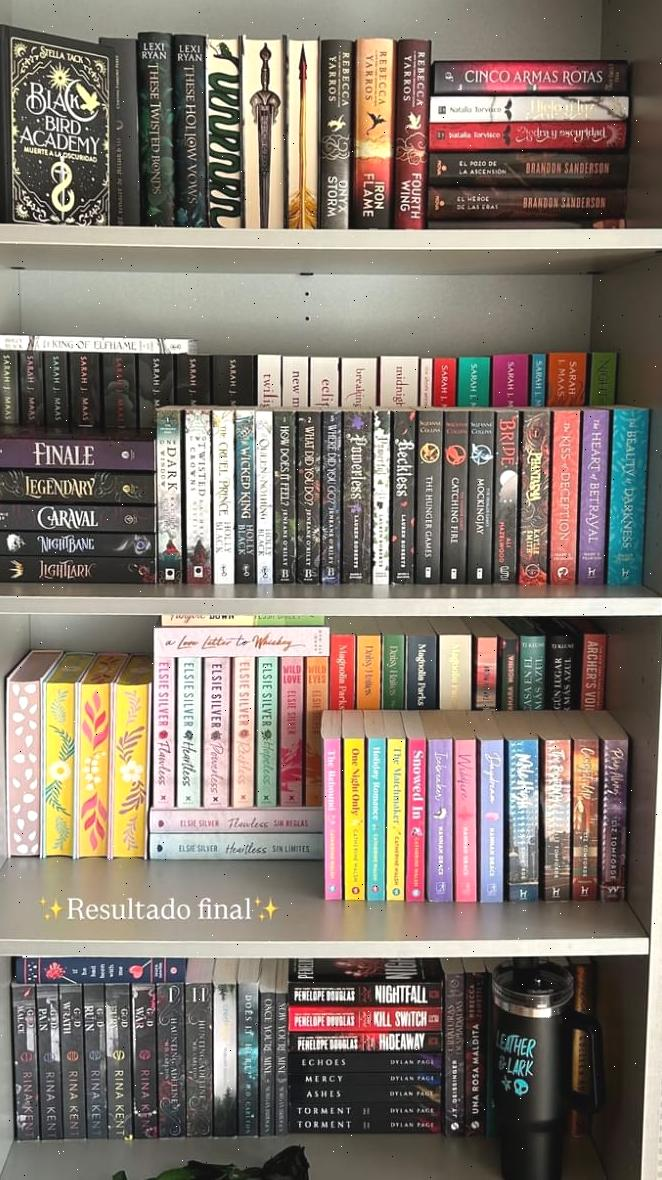book: (242, 37, 284, 225), (355, 39, 396, 227), (205, 36, 243, 226), (136, 33, 174, 223), (394, 39, 432, 226), (172, 34, 209, 226), (318, 40, 354, 227), (286, 39, 321, 226), (427, 150, 625, 183), (596, 717, 629, 904), (577, 409, 610, 588), (476, 718, 506, 906), (549, 410, 580, 587), (519, 411, 550, 586), (427, 122, 629, 148), (541, 730, 571, 905), (0, 437, 152, 471), (571, 727, 600, 903), (130, 967, 159, 1142), (0, 501, 157, 533), (426, 715, 452, 904), (466, 410, 494, 584), (185, 963, 213, 1137), (452, 718, 478, 905), (0, 470, 151, 502), (494, 412, 521, 585), (416, 411, 443, 584), (442, 413, 469, 584), (183, 408, 209, 582), (150, 808, 324, 834), (342, 712, 366, 900), (343, 411, 369, 584), (288, 1075, 442, 1104), (0, 530, 154, 559), (237, 960, 262, 1137), (384, 713, 407, 901), (288, 1005, 445, 1032), (59, 983, 85, 1141), (392, 411, 416, 582), (154, 630, 332, 653), (365, 715, 387, 901), (289, 1049, 444, 1075), (442, 958, 465, 1133), (213, 958, 236, 1133), (322, 709, 343, 897), (279, 655, 305, 806), (203, 656, 228, 810), (212, 411, 234, 583), (371, 409, 393, 581), (273, 412, 295, 583), (304, 656, 329, 804), (232, 657, 255, 809), (255, 410, 275, 582), (154, 653, 175, 812), (256, 657, 278, 808), (290, 988, 439, 1007), (408, 739, 424, 903)
